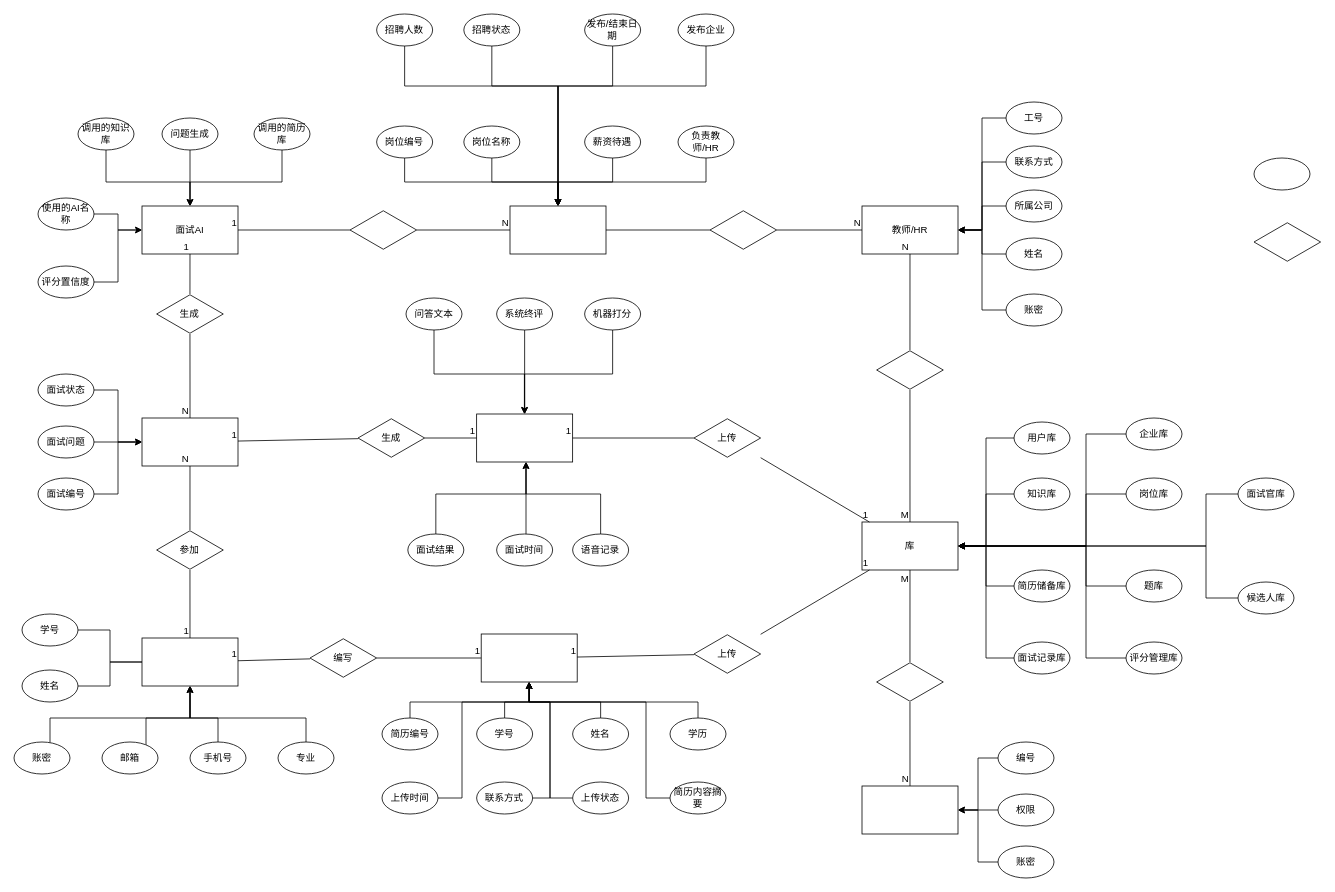
The diagram is 1335 pixels wide and 892 high, and some of its shapes have lost their labels. Each missing label, with the centre of its shape:
"发布" belongs at point (743, 229).
"学生" belongs at point (189, 661).
"岗位" belongs at point (557, 229).
"提交" belongs at point (383, 229).
"简历" belongs at point (528, 657).
"管理" belongs at point (909, 681).
"管理员" belongs at point (909, 809).
"调阅" belongs at point (909, 369).
"面试" belongs at point (189, 441).
"面试记录" belongs at point (524, 437).
